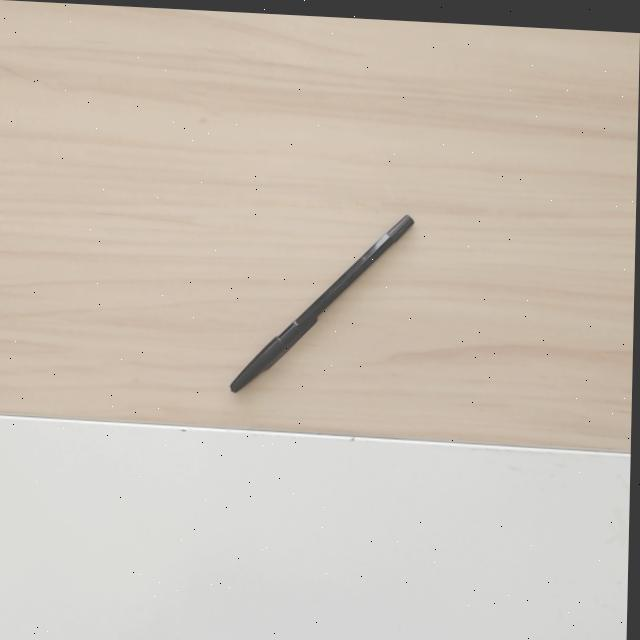Pulpen-Hitam: (224, 212, 419, 399)
